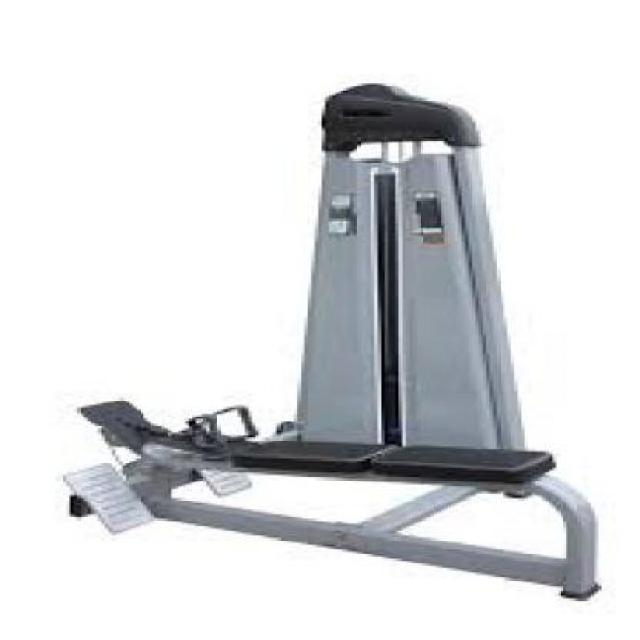Seated Cable Rows: (54, 74, 612, 606)
